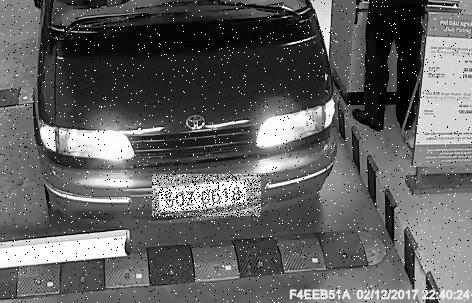License-plate: (153, 176, 262, 219)
